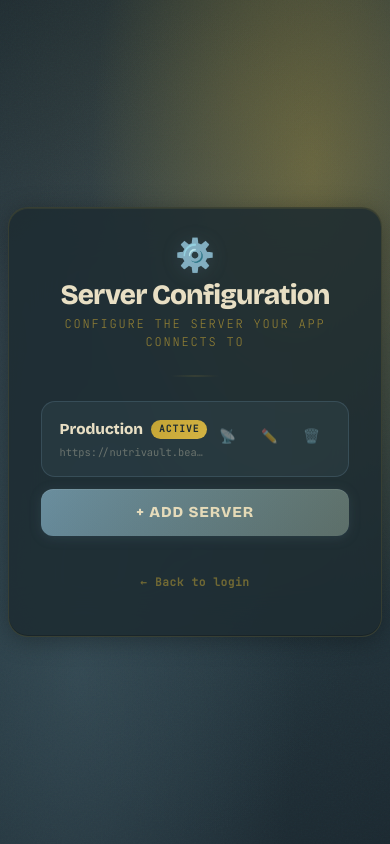
Test: ServerConfigScreen › shows error status on failed connection
The image size is (390, 844).
Click the button "+ Add Server" at x=195, y=513, box top-left (41, 489), bottom-right (349, 536)
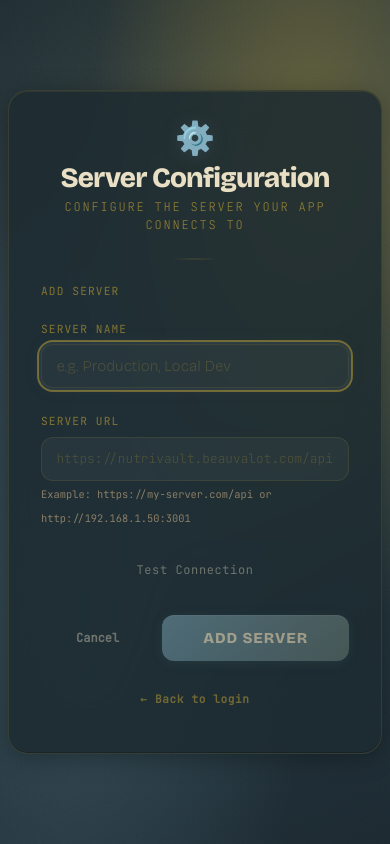
Now the field with placeholder "https://nutrivault.beauvalot.com/api" is shown
Type "http://bad-server" into the field with placeholder "https://nutrivault.beauvalot.com/api" at x=195, y=459, box top-left (41, 437), bottom-right (349, 481)
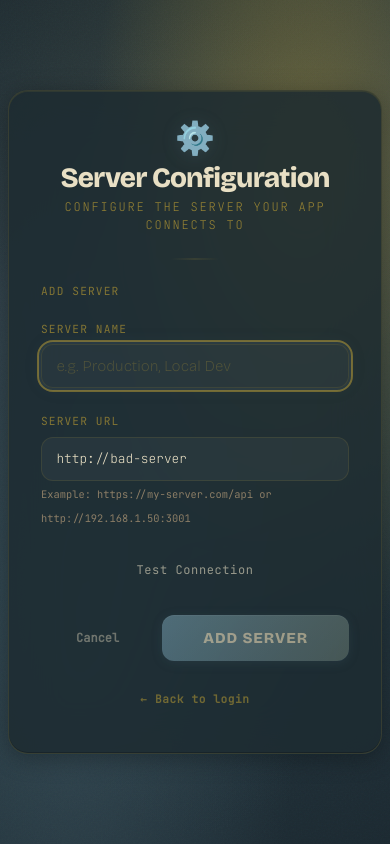
Click the button "Test Connection" at x=195, y=570, box top-left (41, 549), bottom-right (349, 591)
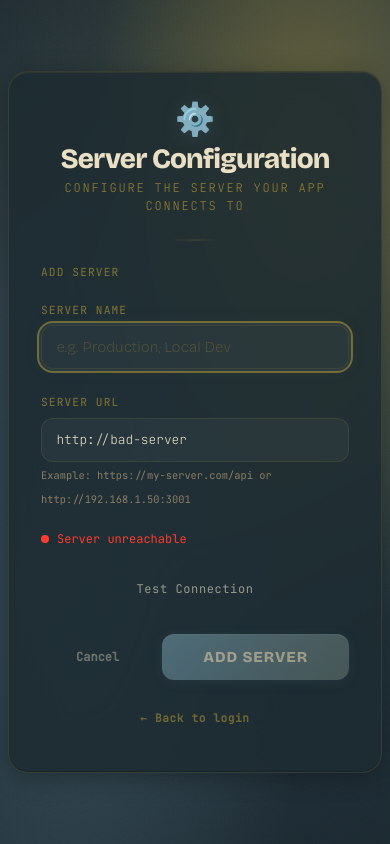
Now the text "Server unreachable" is shown, box top-left (57, 530), bottom-right (187, 548)
